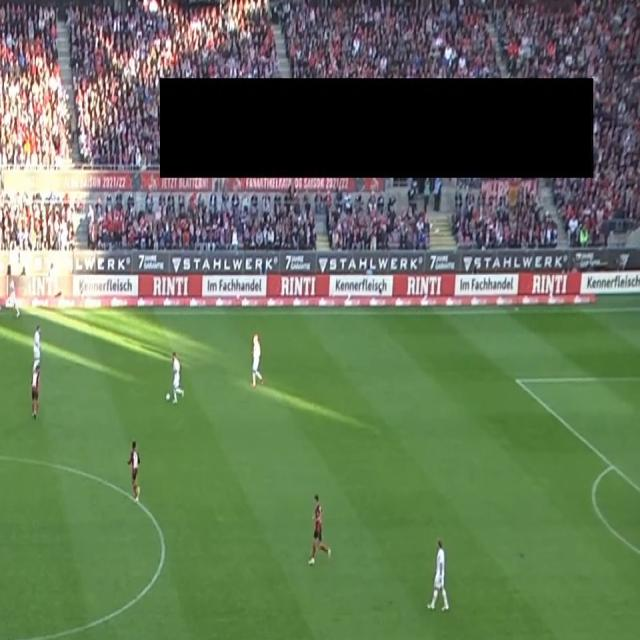ball: (166, 392, 170, 401)
